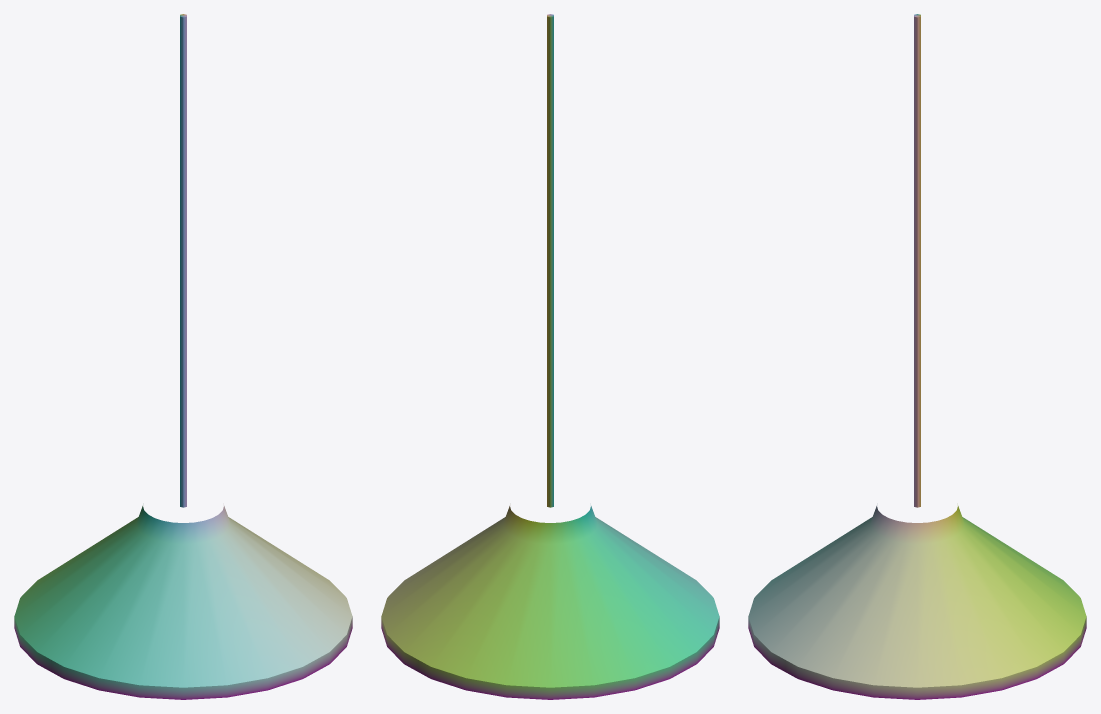
File: kitchen_lamp.glb
3 views of the same model, side by side, from view 1: azimuth 30°, elevation 25°; view 2: azimuth 150°, elevation 25°; view 3: azimuth 270°, elevation 25° (orthographic).
Visible parts, largest first — view 1: kitchen_lamp; view 2: kitchen_lamp; view 3: kitchen_lamp.
Part boxes in pixels (x1,y1,x2,y2): kitchen_lamp: (14, 14, 352, 699); kitchen_lamp: (381, 14, 719, 699); kitchen_lamp: (748, 14, 1086, 699).
Bounding box in the file's own units: 0.5 × 1.02 × 0.5.
